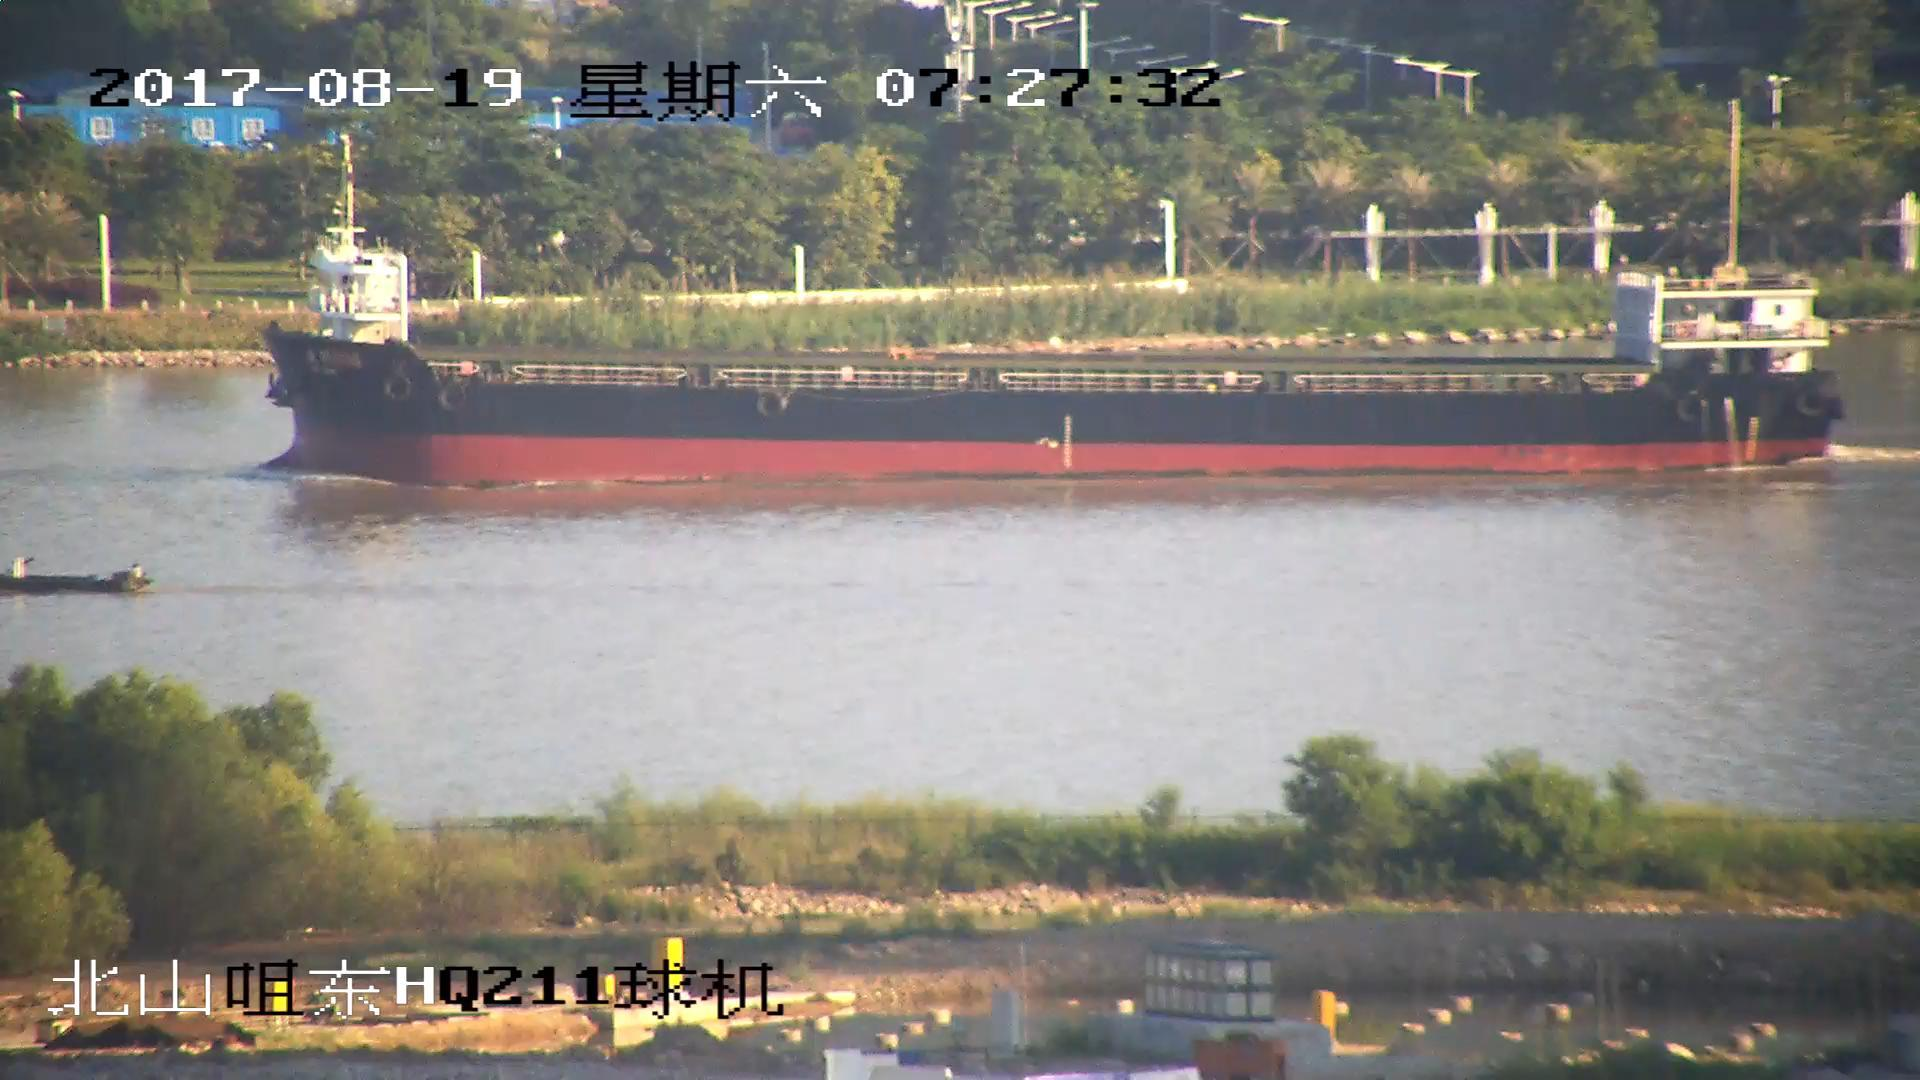Ship: (274, 219, 1851, 481), (3, 553, 150, 599)
